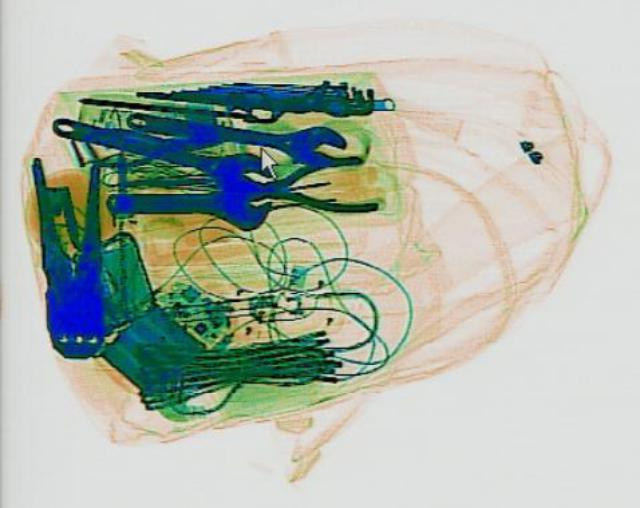Pliers: (29, 153, 105, 357), (227, 154, 376, 218)
Wrench: (38, 103, 278, 200), (120, 97, 348, 168), (103, 177, 271, 230)
